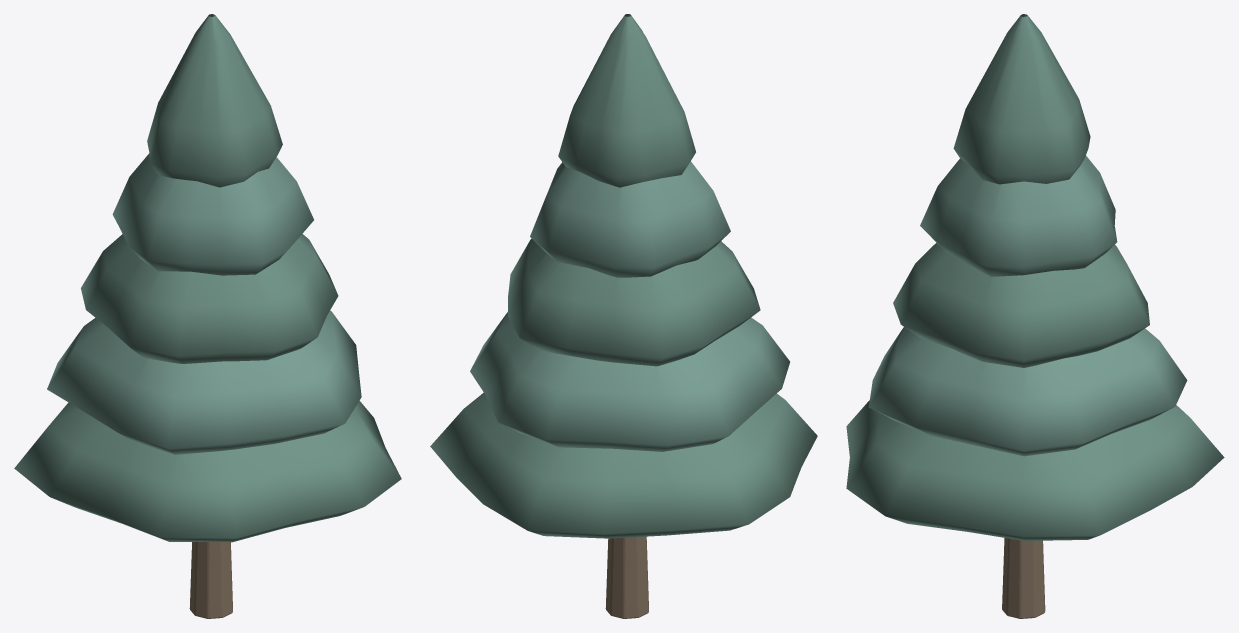
File: SM_Fir_0_UV11249.fbx
3 views of the same model, side by side, from view 1: azimuth 30°, elevation 25°; view 2: azimuth 150°, elevation 25°; view 3: azimuth 270°, elevation 25° (orthographic).
Visible parts, largest first — view 1: SM_Fir_0_UV11249; view 2: SM_Fir_0_UV11249; view 3: SM_Fir_0_UV11249.
Boxes of the visible parts, x1,y1,x2,y2 form: SM_Fir_0_UV11249: [14, 14, 401, 618]; SM_Fir_0_UV11249: [430, 14, 817, 618]; SM_Fir_0_UV11249: [846, 14, 1224, 618].
Size of the model in its own units: 600 by 606 by 1051.
